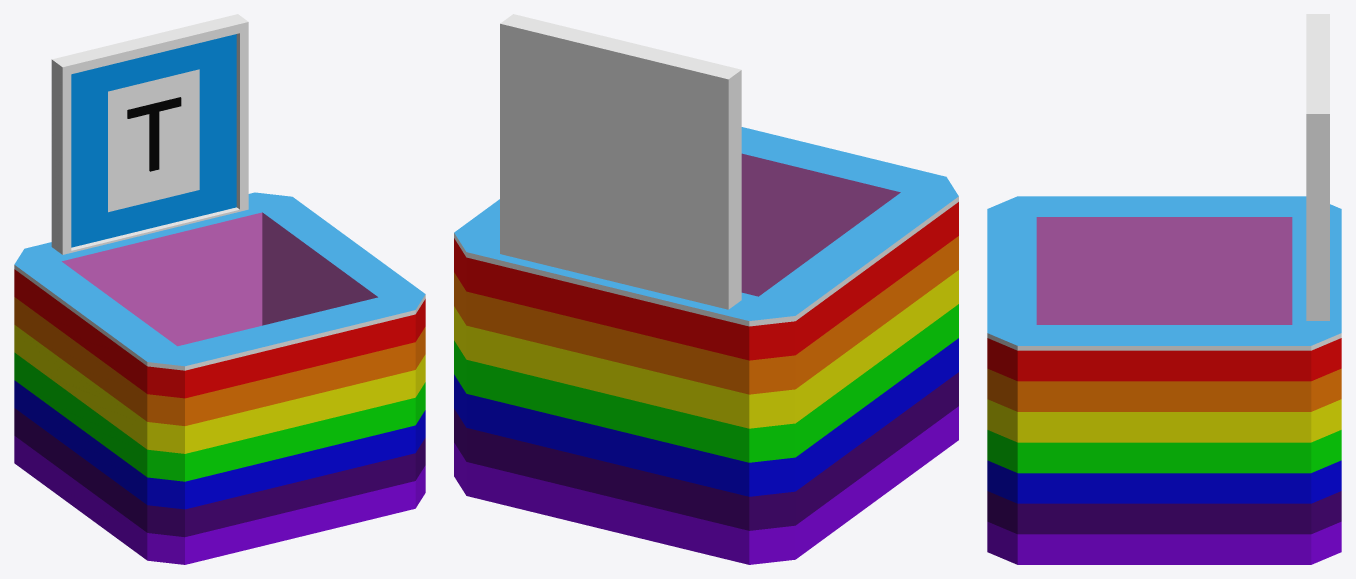
3 renders of one model, left to right at view 1: azimuth 30°, elevation 25°; view 2: azimuth 150°, elevation 25°; view 3: azimuth 270°, elevation 25°, orthographic. The views are drawn at different scales.
Visible parts, largest first — view 1: Cube.001, Text; view 2: Cube.001; view 3: Cube.001.
Part boxes in pixels (bbox=[...]): Cube.001: bbox=[14, 14, 425, 564]; Text: bbox=[127, 97, 181, 171]; Cube.001: bbox=[454, 14, 958, 564]; Cube.001: bbox=[987, 14, 1341, 564].
Bounding box in the file's own units: 383 × 508 × 383.
